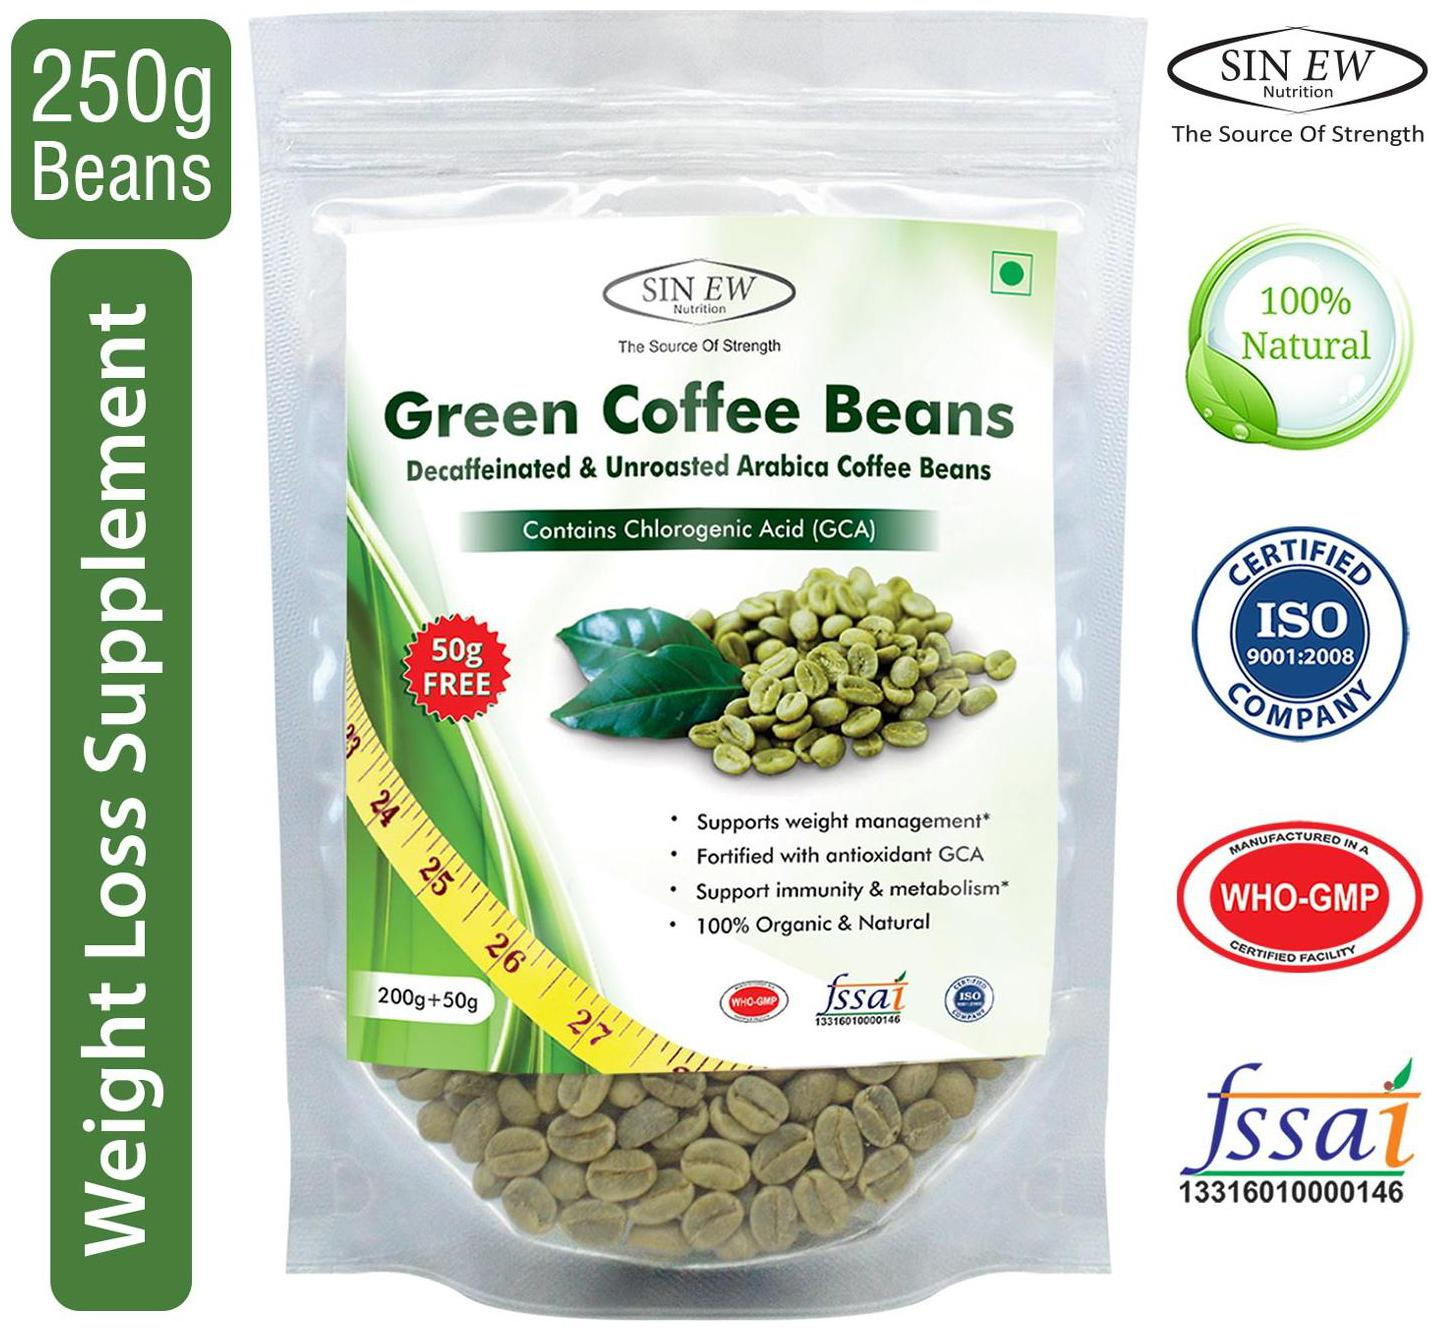fssai: (815, 969, 913, 1014)
